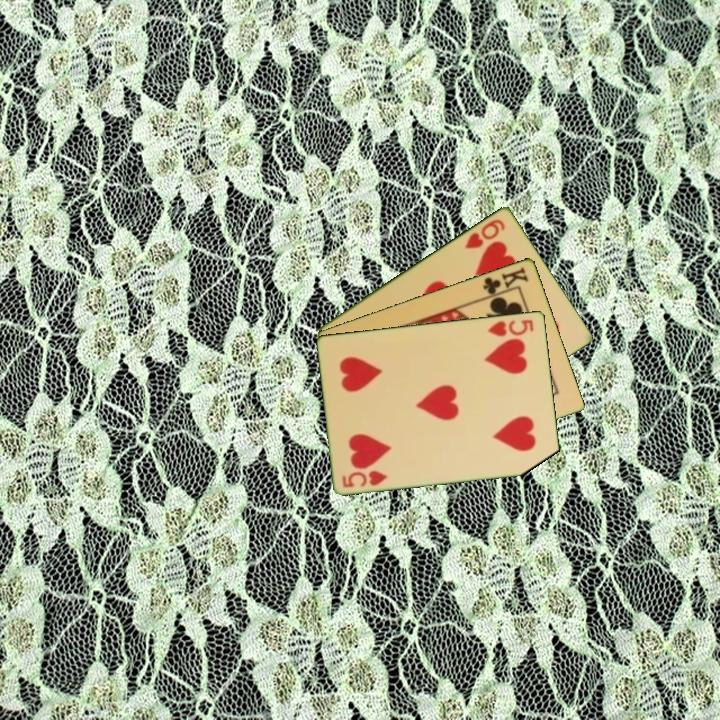5h: (484, 315, 536, 339), (339, 466, 390, 490)
6h: (461, 215, 508, 251)
Kc: (479, 263, 531, 301)
